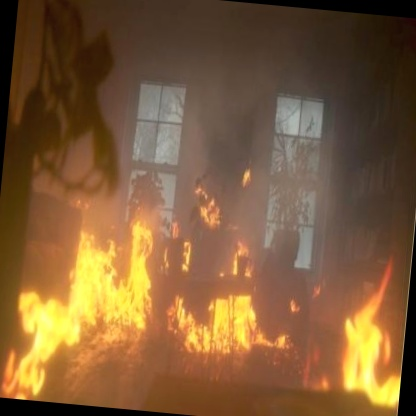fire: (0, 150, 416, 416)
